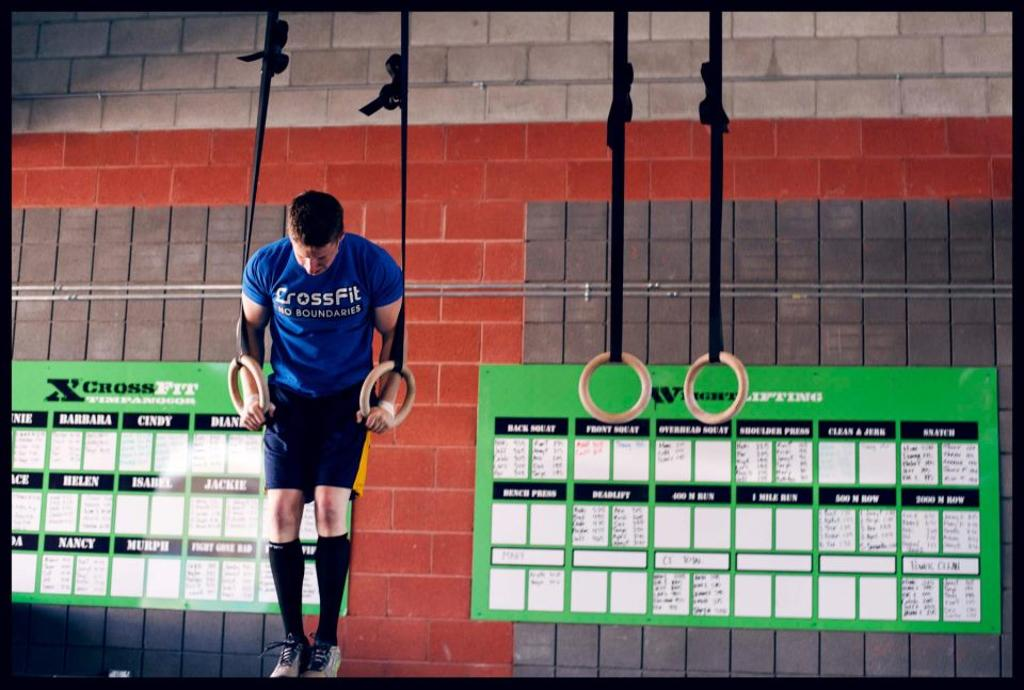face: (290, 236, 337, 276)
